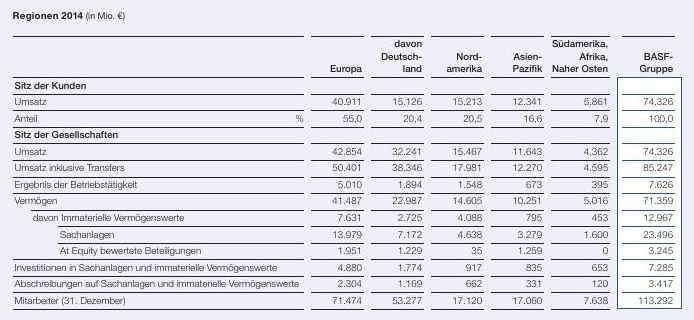table: (0, 0, 694, 320)
